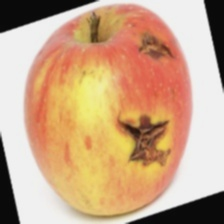apple: (40, 25, 199, 178)
